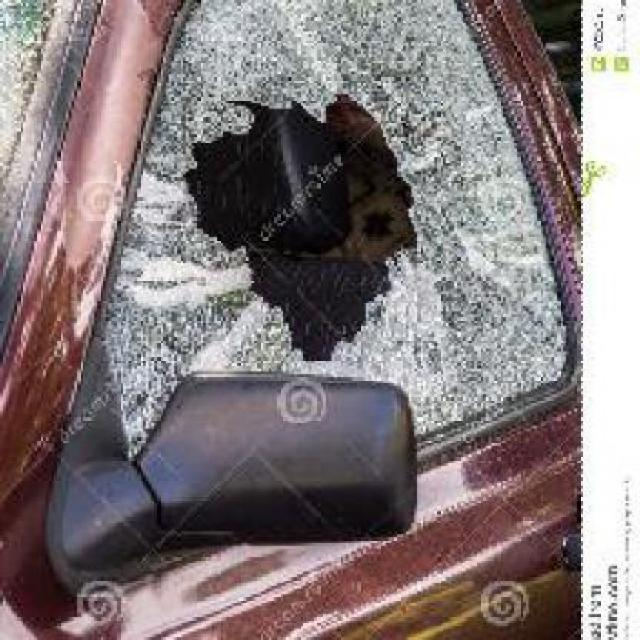damaged-window: (107, 0, 584, 485)
